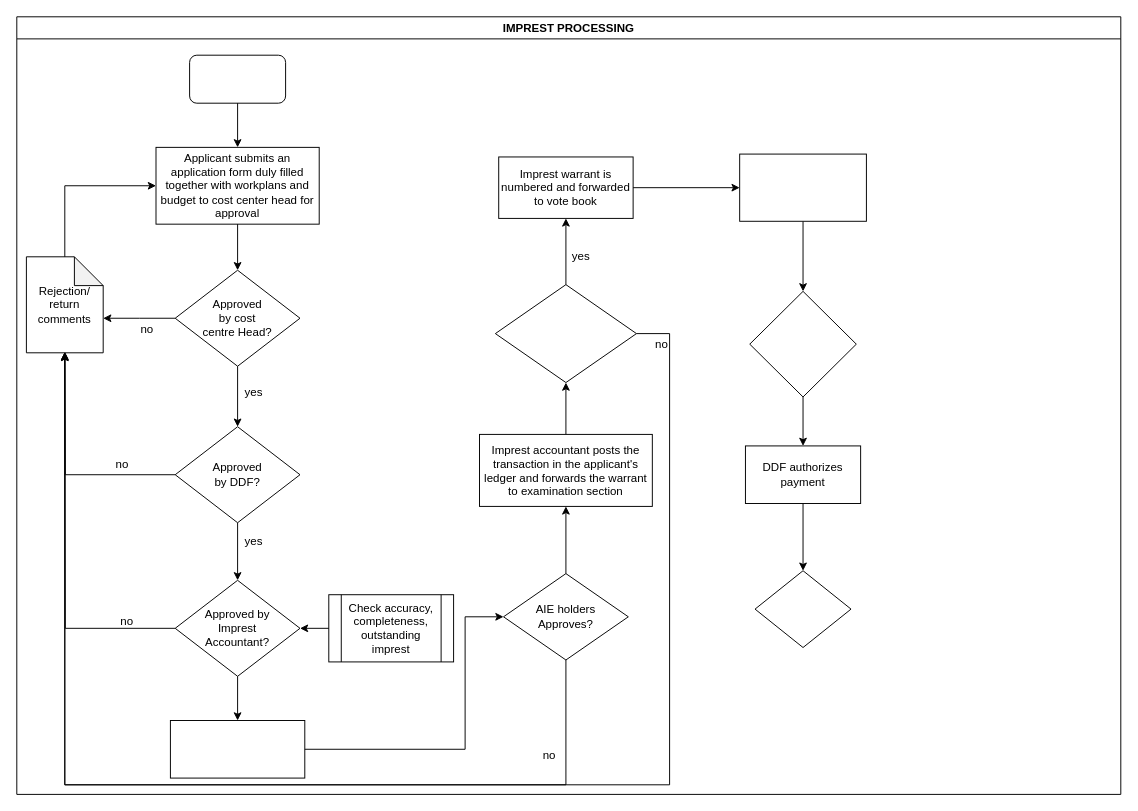
The diagram is 1138 pixels wide and 811 high, and some of its shapes have lost their labels. The centre of each missing label's shape, as x and y in pixels:
"Accountant vote book commits the warrant in respective cost centre item" belongs at point (802, 187).
"cash available?" belongs at point (802, 609).
"Examinanation accountant Approves?" belongs at point (565, 333).
"Expenditure inline with budget" belongs at point (802, 343).
"Imprest Accountant generates imprest warrant for AIE Holder approval" belongs at point (237, 749).
"Start" belongs at point (237, 78).
